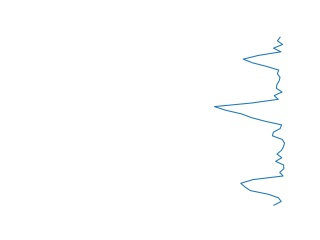underwaterNaturalLevee: (211, 36, 291, 212)
